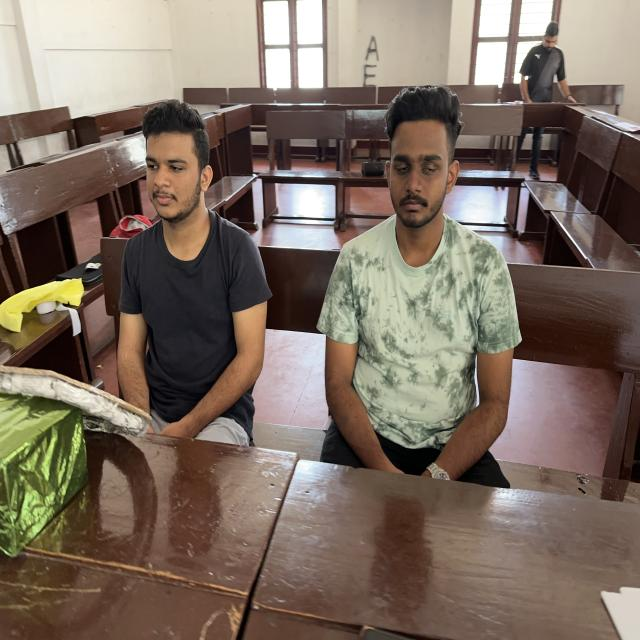no-seatbelt: (323, 218, 512, 512), (119, 222, 270, 460)
